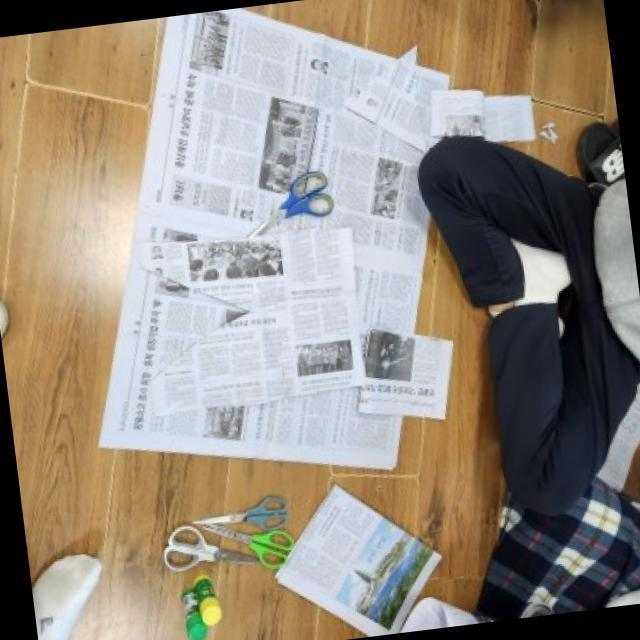reuseable_paper: (61, 0, 493, 502)
